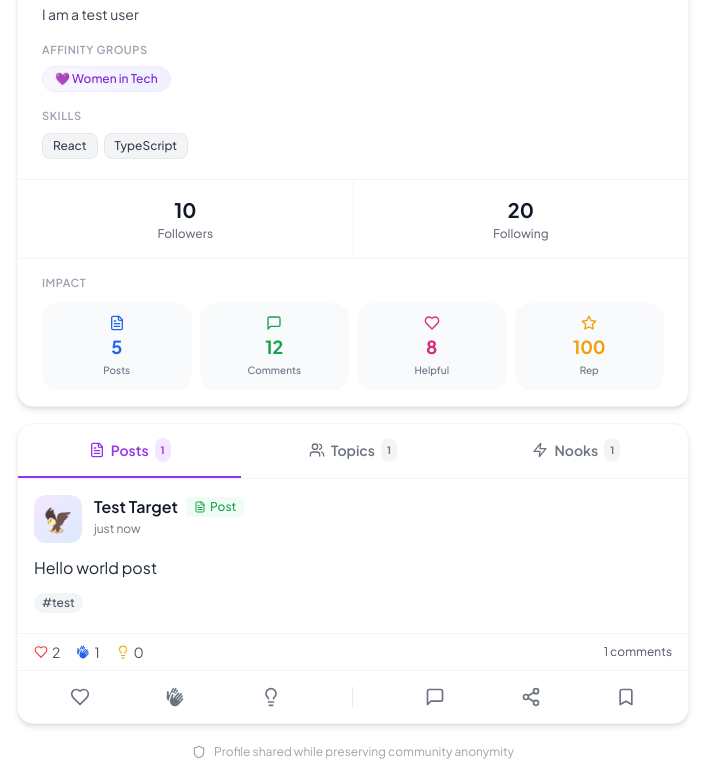
Test: UserProfilePage › switches to topics tab and shows topics
(page scrolled)
# Click the Topics tab button specifically
Click the button "Topics 1".
click(353, 451)  # box [241,424,465,478]
(page scrolled)
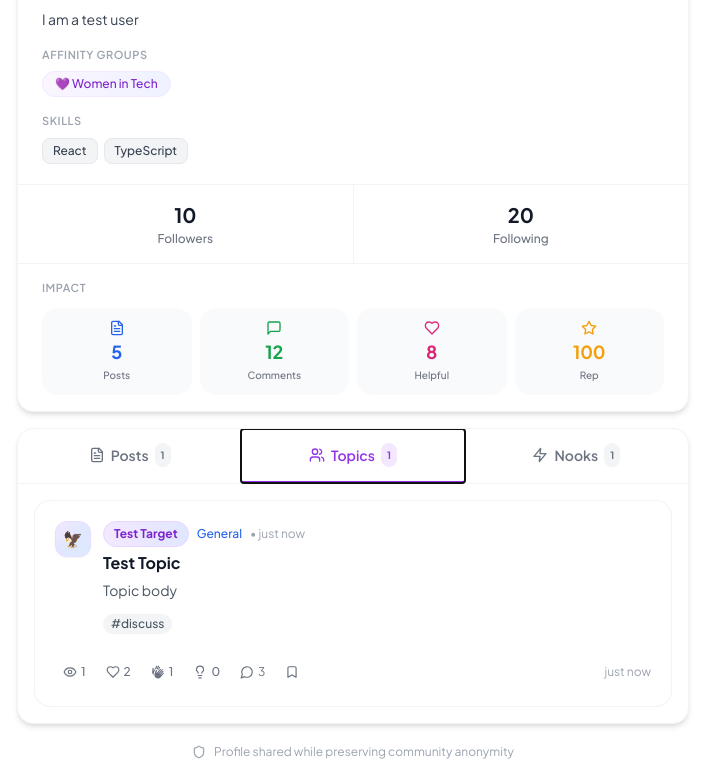
expect the text "Test Topic" is shown: met, box [103,552,180,573]
expect the text "Topic body" is shown: met, box [103,581,177,599]
